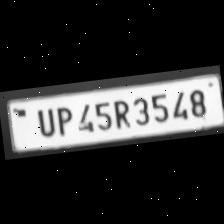3: (129, 92, 151, 126)
4: (72, 100, 95, 134), (166, 87, 188, 121)
5: (90, 98, 113, 132), (146, 90, 168, 124)
8: (184, 84, 209, 118)
P: (52, 102, 76, 136)
R: (108, 95, 132, 129)
U: (31, 105, 56, 138)
